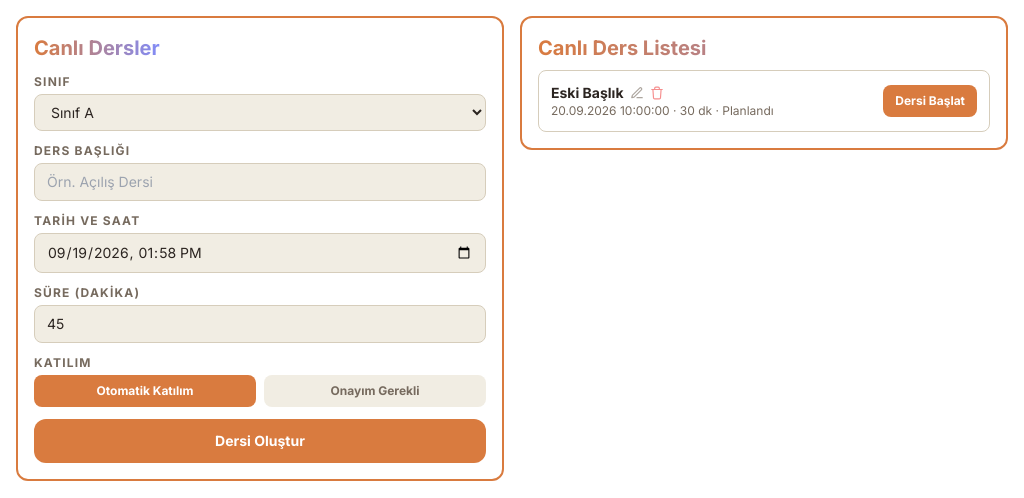
madde 2026-09-16 (Antrenör Ekranı, Faz A / madde 5): "Derslerim" başlığı düzenlenebilir
Expected: the text "Eski Başlık" is shown, [551, 83, 624, 103]
Click the button titled "Başlığı düzenle": click(636, 93) [630, 86, 644, 100]
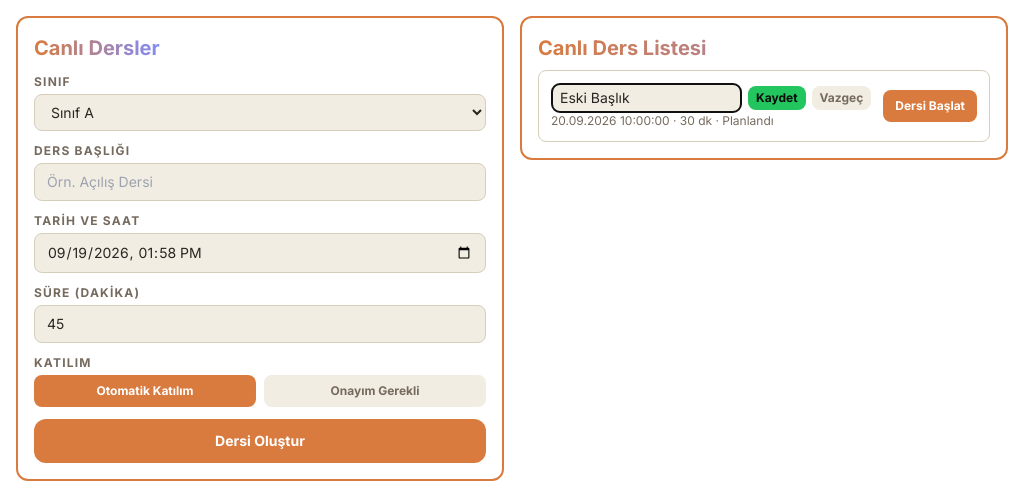
Replace the text in the field showing "Eski Başlık" below "Canlı Ders Listesi" with "Yeni Başlık": (647, 98) [551, 83, 742, 113]
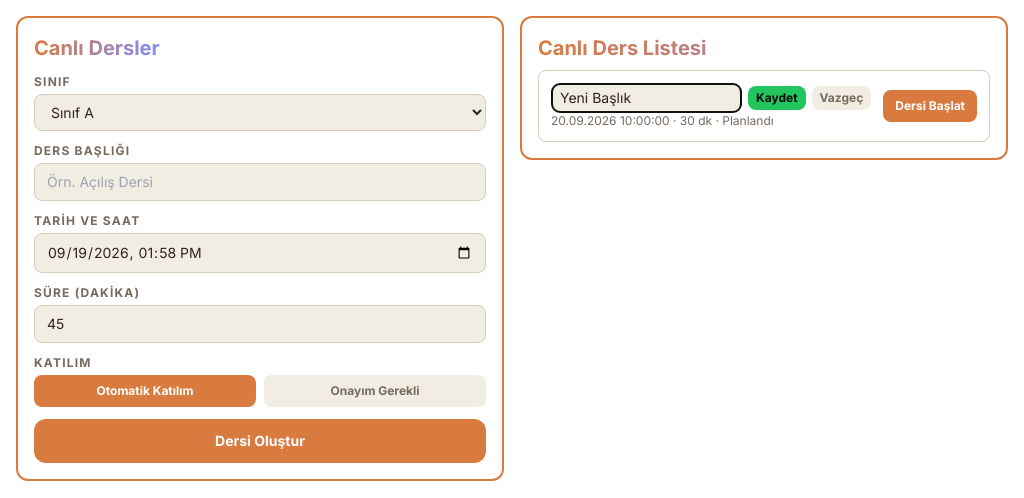
Click the button "Kaydet": click(777, 98) [748, 86, 806, 110]
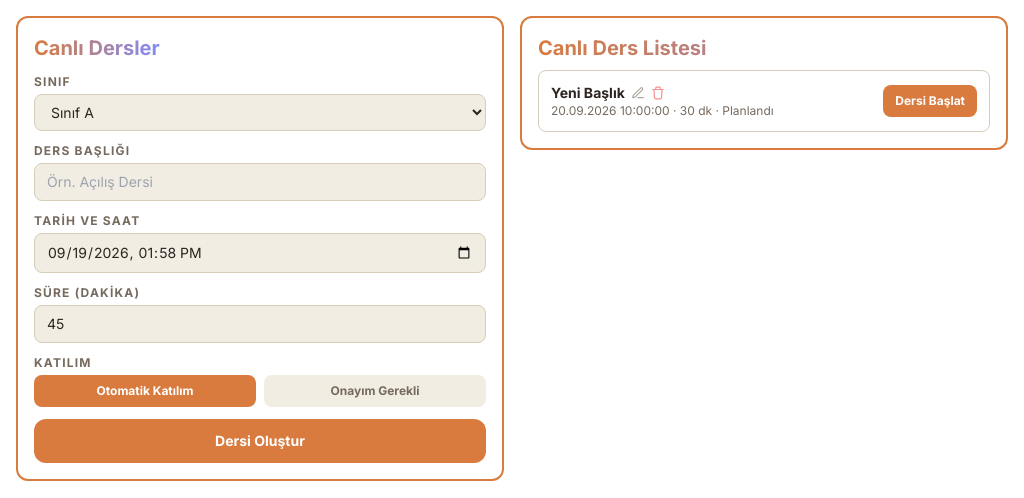
Expected: the text "Eski Başlık" is not shown
Result: the text "Yeni Başlık" is shown at [551, 83, 625, 103]
